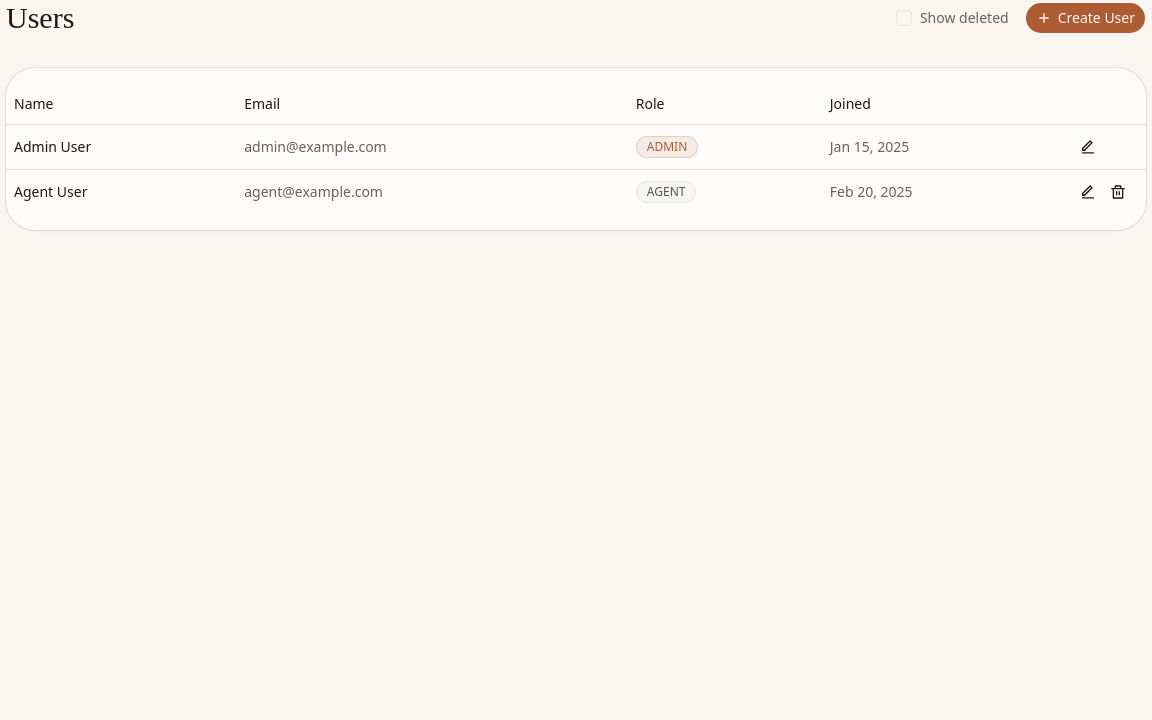
Test case: Users page › Delete User › opens confirmation dialog when delete is clicked
Expected: the text "Agent User" is shown, [6,169,236,214]
Click the button named "delete agent user" at (1118, 192), box [1104,178,1132,206]
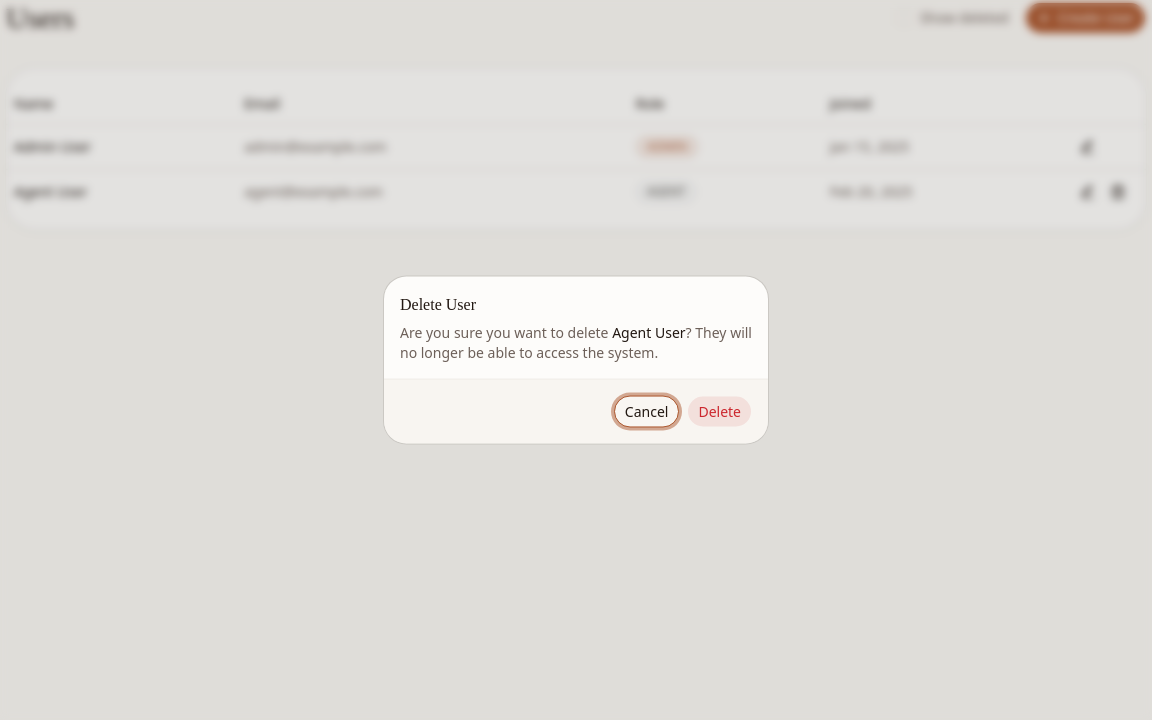
Expected: the dialog is shown, [384,276,768,444]
Expected: the text "Are you sure you want to delete" is shown, [400,322,608,342]
